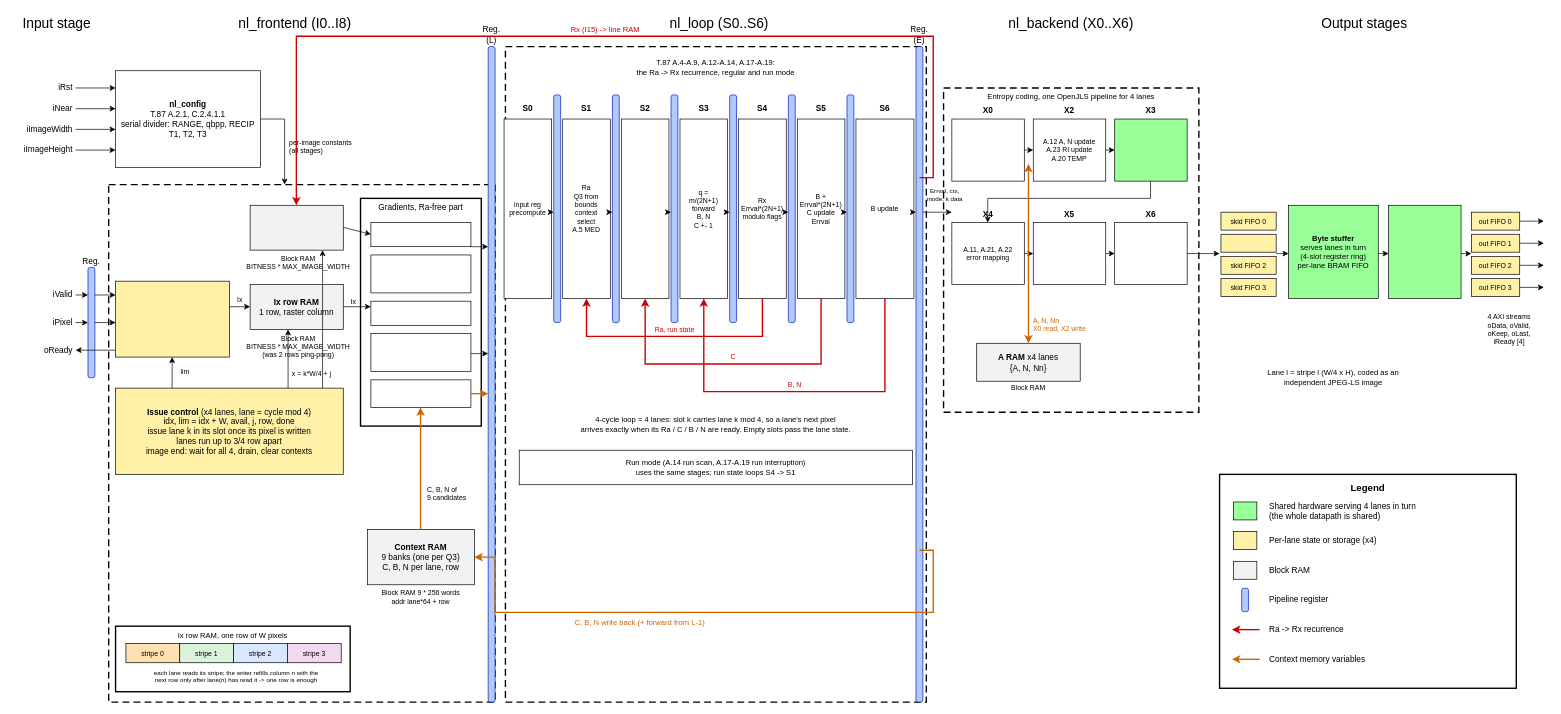
This 1561x714 diagram has some shape labels left out. Each missing label, with the centre of its shape:
"A.11.1 limited Golomb" belongs at pixel 1069 253.
"A.11.2 bit packer" belongs at pixel 1150 253.
"A.15 / A.16 run coding A RAM read" belongs at pixel 987 149.
"Comp. k A.10" belongs at pixel 1150 149.
"forward C Px |error|" belongs at pixel 645 208.
"I2 Rb, Rc, Rd" belongs at pixel 420 234.
"I3 A.1 D1, D2 Q3 bounds (D3 waits for Ra)" belongs at pixel 420 273.
"I4 A.4 Q1, Q2" belongs at pixel 420 312.
"I5 A.4.1/A.4.2 sign merge, 9 Q3 candidates" belongs at pixel 420 352.
"I6-I7 context read" belongs at pixel 420 393.
"JLS framer lanes in turn header ROM, FF D9 footer" belongs at pixel 1424 251.
"Rx line RAM previous row, reconstructed" belongs at pixel 296 227.
"skid FIFO 1" belongs at pixel 1248 243.
"Writer raster column n, lane of n accept if n < lim(lane)" belongs at pixel 172 318.
